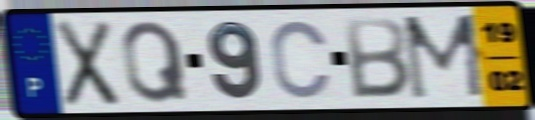9: (204, 17, 266, 105)
B: (343, 15, 413, 101)
C: (268, 18, 335, 102)
M: (400, 11, 491, 104)
Q: (119, 18, 192, 106)
X: (52, 17, 121, 109)
